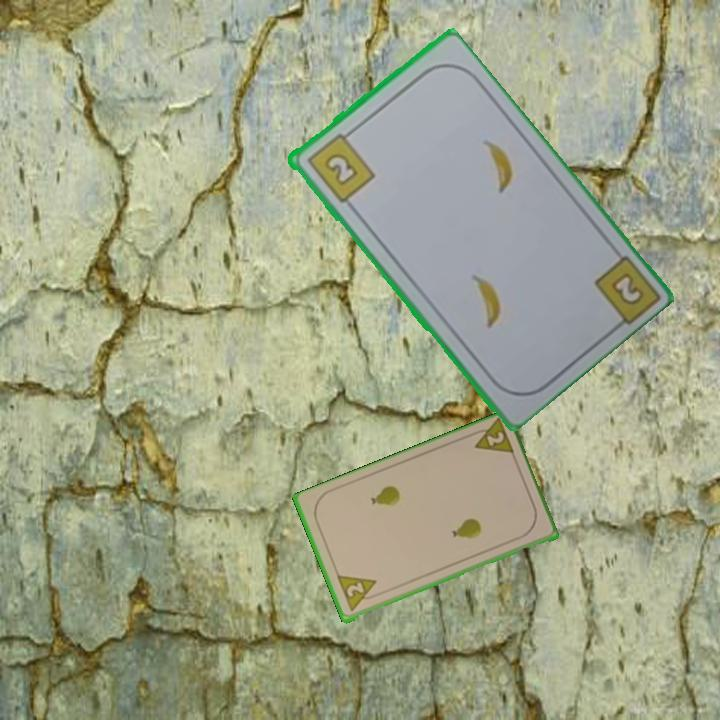2b: (302, 126, 377, 206), (611, 272, 644, 305)
2p: (465, 416, 517, 459), (334, 572, 383, 615)
